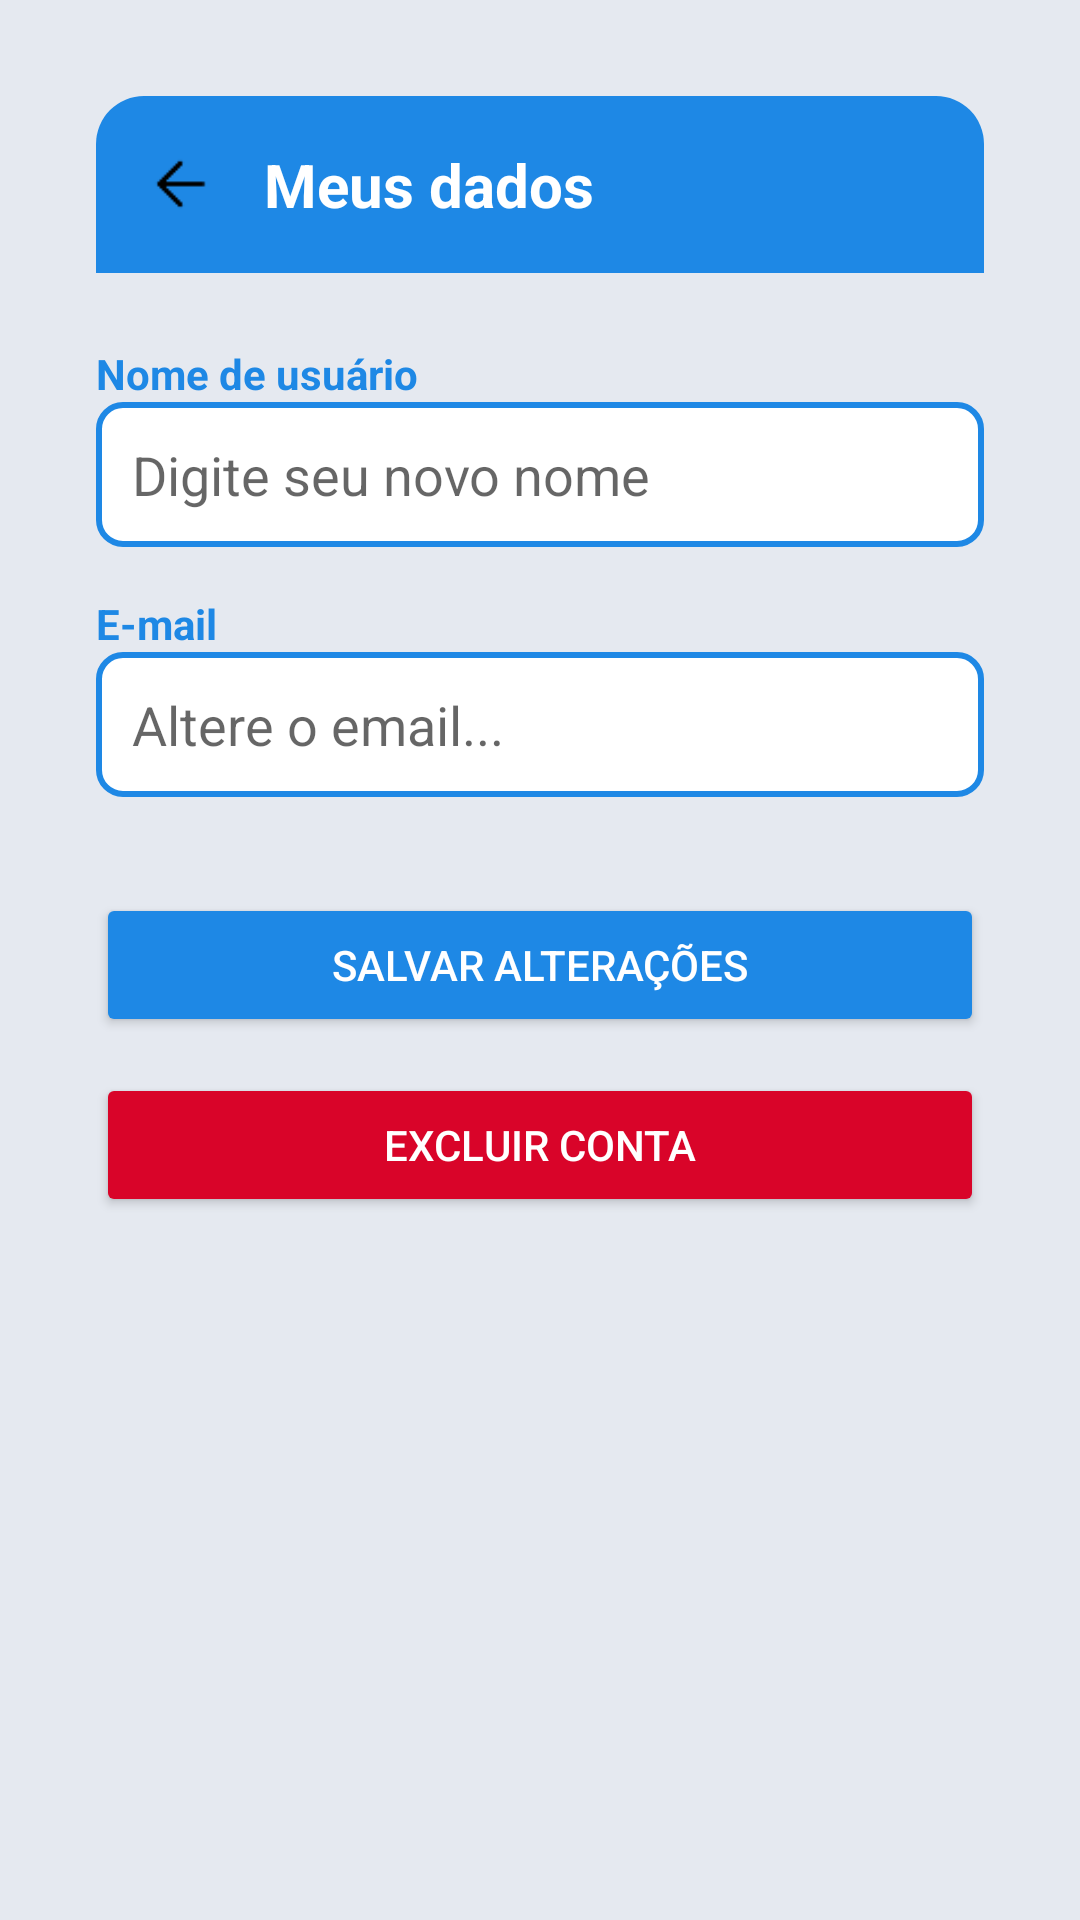

Where icons sit on this 1080w x 1920h app screen, as rect(x1, y1, x2, y2):
Voltar: rect(157, 160, 206, 207)
